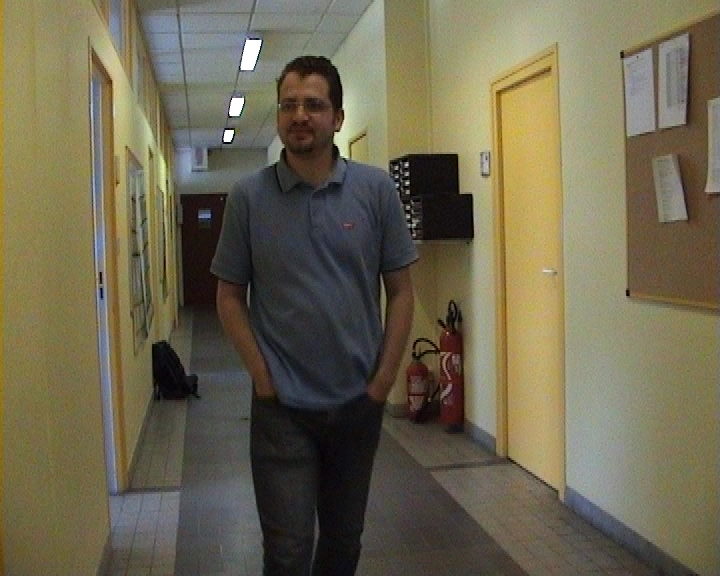leave bag unattended: (121, 326, 206, 421)
